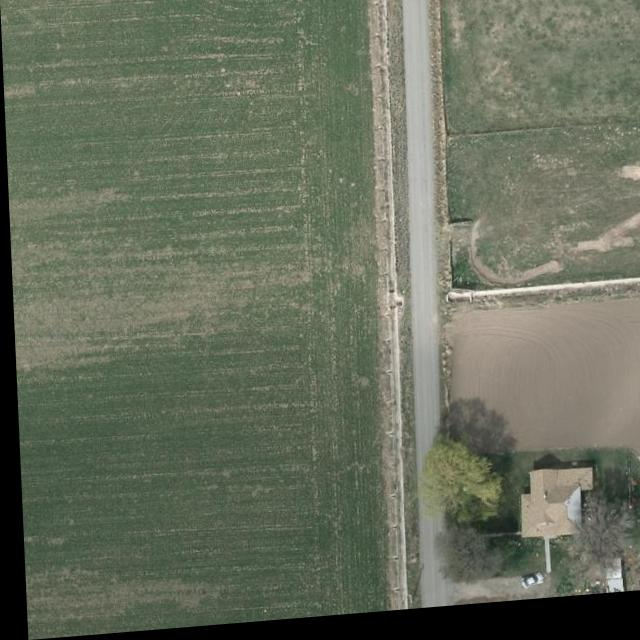vehicle: (514, 581, 538, 597)
